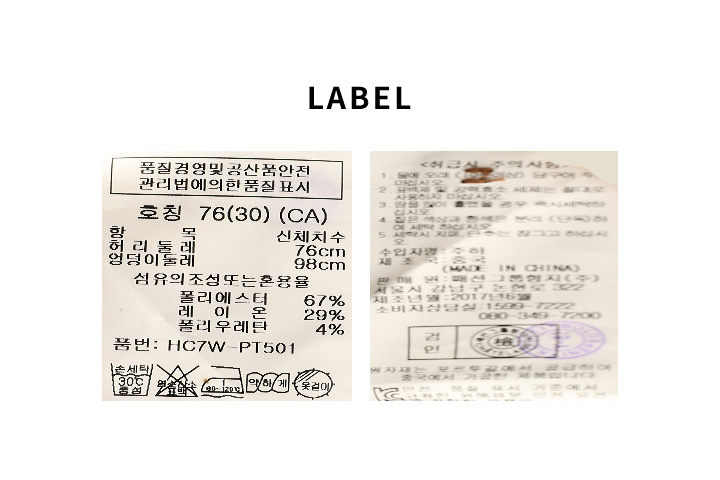KR_gentle_wring: (244, 365, 292, 399)
KR_hand_wash_30_neutral: (110, 360, 153, 398)
KR_hang_dry_in_shade: (292, 366, 335, 400)
KR_iron_low_temp_with_cloth: (201, 363, 244, 400)
KR_no_bleach: (154, 362, 199, 400)
